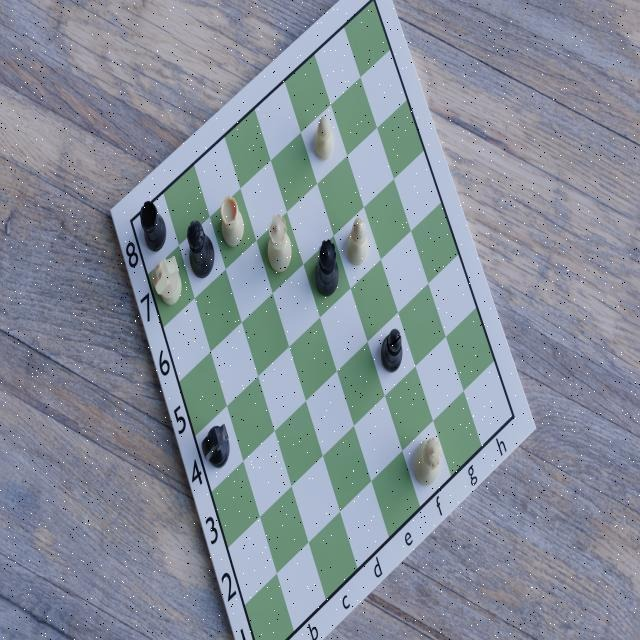black-bishop: (379, 327, 405, 376)
black-king: (185, 220, 218, 284)
black-knight: (199, 422, 233, 472)
black-queen: (312, 238, 340, 298)
black-rook: (137, 200, 168, 252)
white-bishop: (343, 213, 369, 268)
white-king: (411, 429, 444, 492)
white-knight: (149, 255, 185, 307)
white-pawn: (310, 114, 336, 164)
white-queen: (264, 214, 296, 278)
white-rook: (218, 195, 246, 249)
